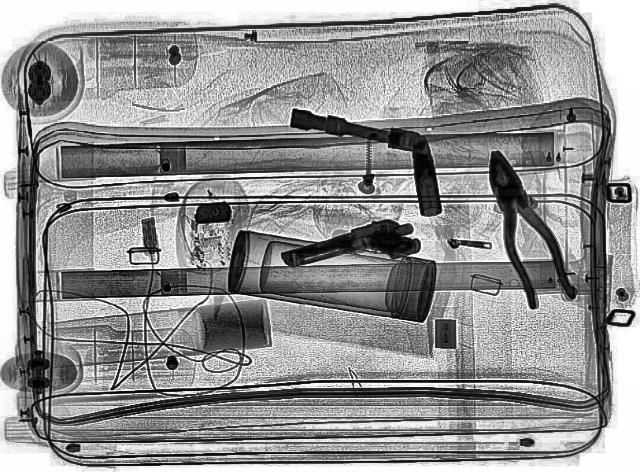Gun: (275, 211, 425, 289)
Pliers: (468, 146, 576, 308)
